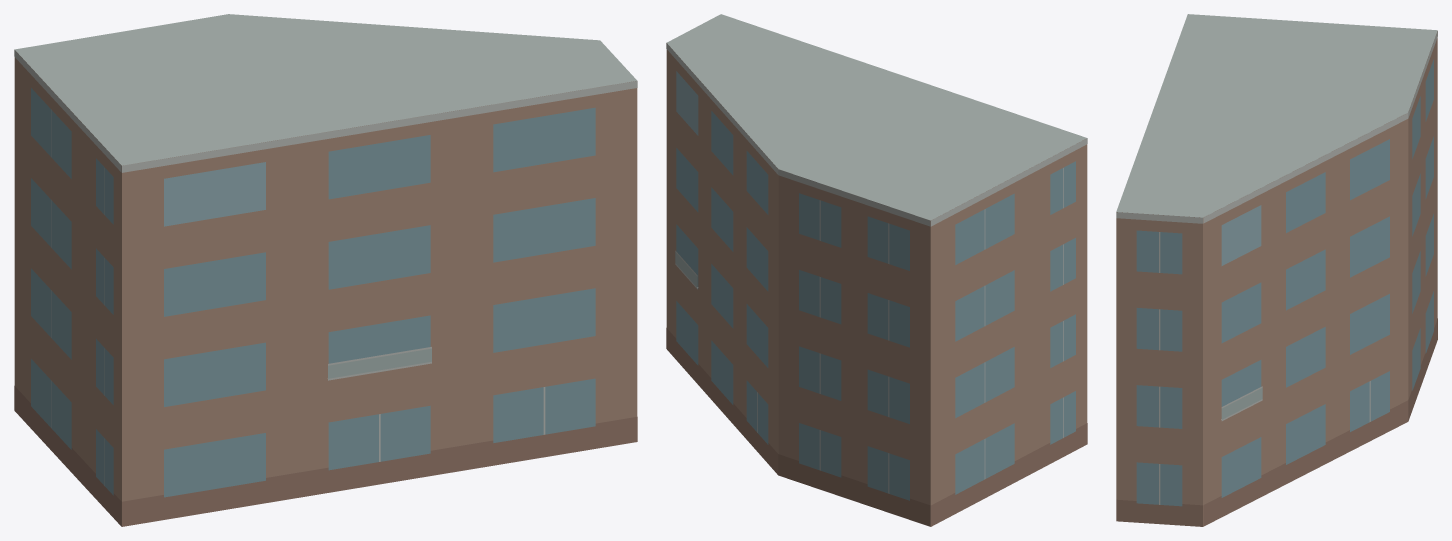
File: residential-73f08575-6ba4-43fd-9b17-baabf426065c.glb
3 renders of one model, left to right at view 1: azimuth 30°, elevation 25°; view 2: azimuth 150°, elevation 25°; view 3: azimuth 270°, elevation 25°, orthographic. The views are drawn at different scales.
Parts seen in each view (by area): view 1: residential-73f08575-6ba4-43fd-9b17-baabf426065c.tmp; view 2: residential-73f08575-6ba4-43fd-9b17-baabf426065c.tmp; view 3: residential-73f08575-6ba4-43fd-9b17-baabf426065c.tmp.
Boxes of the visible parts, x1,y1,x2,y2 form: residential-73f08575-6ba4-43fd-9b17-baabf426065c.tmp: [14, 14, 637, 526]; residential-73f08575-6ba4-43fd-9b17-baabf426065c.tmp: [666, 14, 1087, 526]; residential-73f08575-6ba4-43fd-9b17-baabf426065c.tmp: [1116, 14, 1437, 526].
Size of the model in its own units: 17.24 by 12.2 by 11.51.
